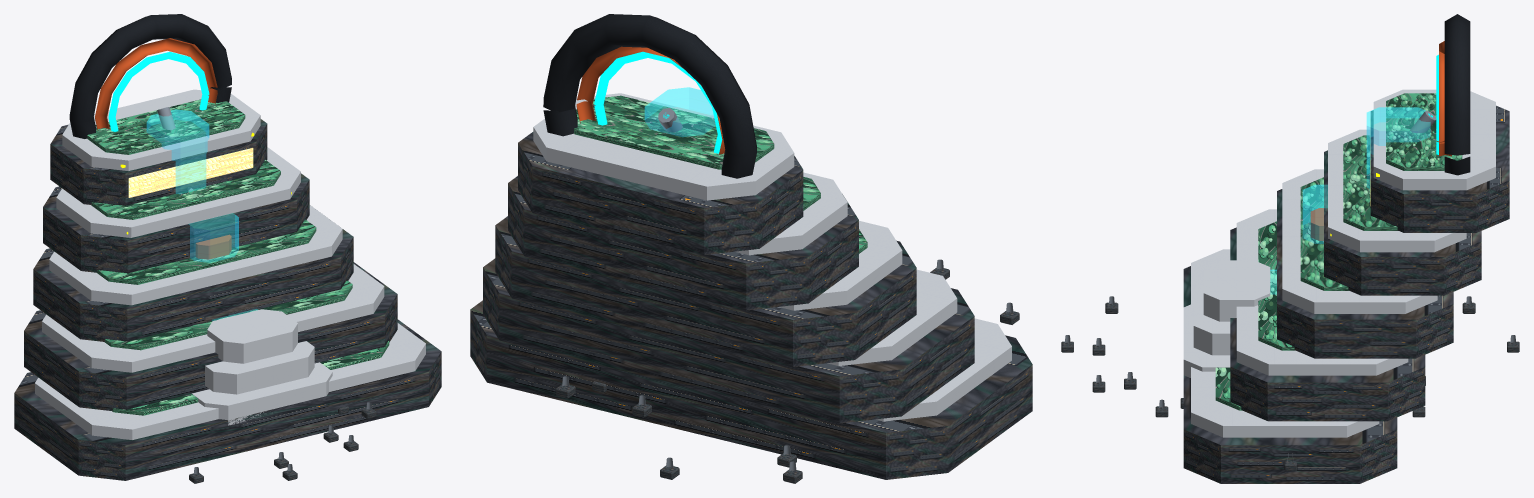
The model's file is interior_setpiece_04_r1_04.glb.
3 views of the same model, side by side, from view 1: azimuth 30°, elevation 25°; view 2: azimuth 150°, elevation 25°; view 3: azimuth 270°, elevation 25° (orthographic). The views are drawn at different scales.
Parts seen in each view (by area): view 1: Setpiece04_C04_cliff_basalt, Setpiece04_C04_aero_white, Setpiece04_C04_biome_canopy, Setpiece04_C04_gunmetal, Setpiece04_C04_glass_cyan, Setpiece04_C04_accent_orange, Setpiece04_C04_window_warm_amber, Setpiece04_C04_led_cyan, Setpiece04_C04_steel_machined; view 2: Setpiece04_C04_cliff_basalt, Setpiece04_C04_aero_white, Setpiece04_C04_gunmetal, Setpiece04_C04_biome_canopy, Setpiece04_C04_glass_cyan, Setpiece04_C04_accent_orange, Setpiece04_C04_led_cyan, Setpiece04_C04_steel_machined; view 3: Setpiece04_C04_cliff_basalt, Setpiece04_C04_aero_white, Setpiece04_C04_biome_canopy, Setpiece04_C04_gunmetal, Setpiece04_C04_glass_cyan, Setpiece04_C04_accent_orange, Setpiece04_C04_steel_machined.
Boxes of the visible parts, box(x1,y1,x2,y2) form: Setpiece04_C04_cliff_basalt: box(14, 119, 441, 483); Setpiece04_C04_aero_white: box(35, 89, 425, 439); Setpiece04_C04_biome_canopy: box(87, 99, 389, 415); Setpiece04_C04_gunmetal: box(69, 14, 231, 138); Setpiece04_C04_glass_cyan: box(146, 109, 257, 320); Setpiece04_C04_accent_orange: box(95, 38, 231, 259); Setpiece04_C04_window_warm_amber: box(128, 148, 253, 197); Setpiece04_C04_led_cyan: box(108, 52, 209, 131); Setpiece04_C04_steel_machined: box(157, 107, 371, 474); Setpiece04_C04_cliff_basalt: box(470, 132, 1032, 483); Setpiece04_C04_aero_white: box(533, 93, 1011, 421); Setpiece04_C04_gunmetal: box(543, 14, 756, 178); Setpiece04_C04_biome_canopy: box(574, 95, 867, 253); Setpiece04_C04_glass_cyan: box(644, 87, 715, 136); Setpiece04_C04_accent_orange: box(576, 46, 725, 154); Setpiece04_C04_led_cyan: box(594, 51, 722, 153); Setpiece04_C04_steel_machined: box(562, 108, 1013, 471); Setpiece04_C04_cliff_basalt: box(1061, 105, 1519, 483); Setpiece04_C04_aero_white: box(1183, 89, 1495, 437); Setpiece04_C04_biome_canopy: box(1215, 93, 1462, 410); Setpiece04_C04_gunmetal: box(1444, 14, 1470, 175); Setpiece04_C04_glass_cyan: box(1270, 107, 1430, 294); Setpiece04_C04_accent_orange: box(1310, 41, 1451, 240); Setpiece04_C04_steel_machined: box(1064, 110, 1516, 460).
Size of the model in its own units: 34.58 by 30.1 by 34.29.
Materials: 10 (10 with a texture image).
